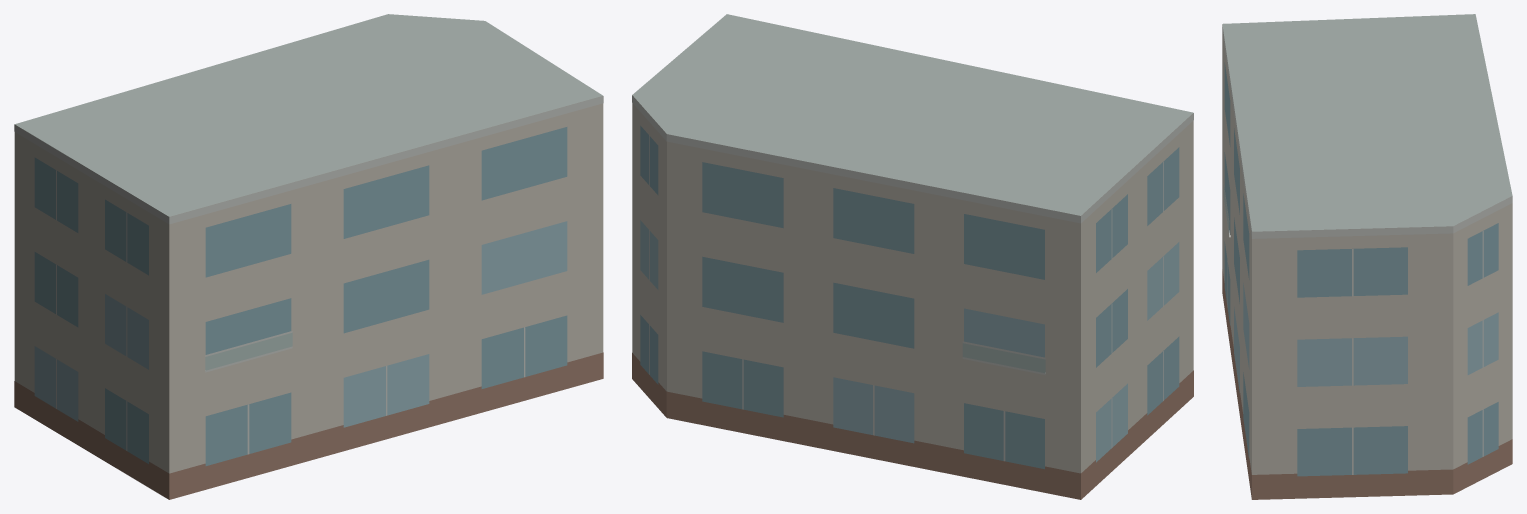
Rendered from survey-upis-32777995.glb.
The picture shows the model from 3 angles, left to right: view 1: azimuth 30°, elevation 25°; view 2: azimuth 150°, elevation 25°; view 3: azimuth 270°, elevation 25°; orthographic projection. The views are drawn at different scales.
Visible parts, largest first — view 1: survey-upis-32777995.tmp; view 2: survey-upis-32777995.tmp; view 3: survey-upis-32777995.tmp.
Boxes of the visible parts, box(x1,y1,x2,y2) form: survey-upis-32777995.tmp: box(14, 14, 603, 499); survey-upis-32777995.tmp: box(632, 14, 1193, 499); survey-upis-32777995.tmp: box(1222, 14, 1512, 499).
Bounding box in the file's own units: 15.94 × 9.15 × 8.99.
